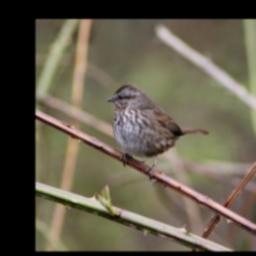Sparrow: (103, 81, 212, 182)
